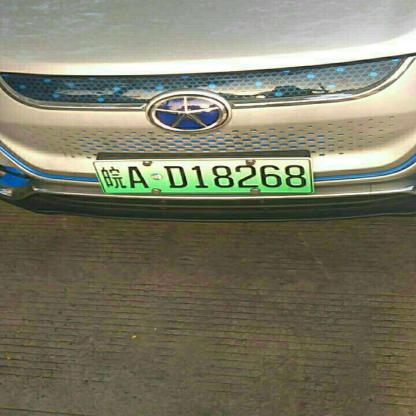lp: (95, 159, 312, 193)
